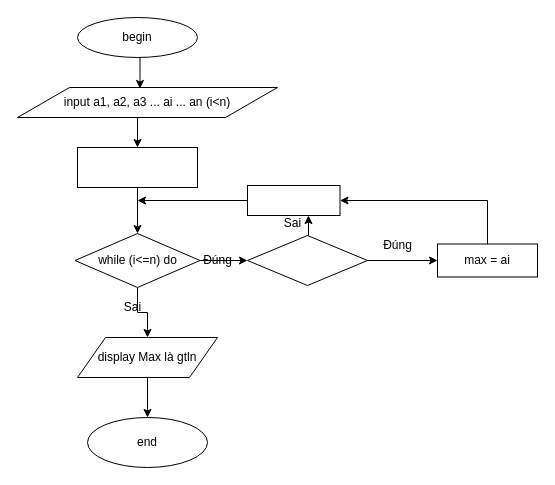
The diagram is 555 pixels wide and 485 high, and some of its shapes have lost their labels. The shapes that lost their labels are listed below. From the top down, each one's box as (x1, y1, x2, y2) in pixels, then its label:
(76, 146, 198, 188): max = a1 i = 2
(246, 184, 340, 216): i = i + 1
(246, 234, 368, 286): if (max<ai)
